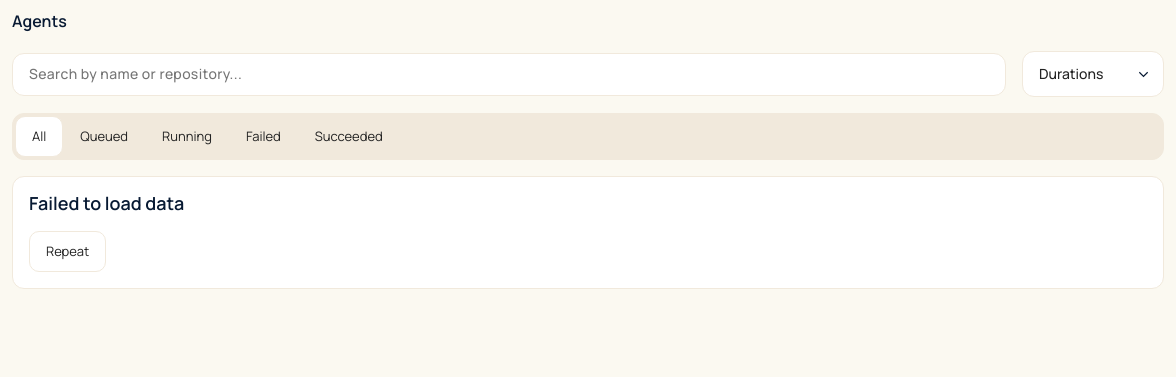
Test: Тестирование обработки ошибок в AgentsList › должен показывать блок ошибки и успешно перезагружать данные при клике на Повторить
This screenshot has width=1176, height=377.
Expected: the text "Failed to load data" is shown, [29, 193, 184, 215]
# Имитируем клик по кнопке "Повторить запрос ↻"
Click the button "Repeat" at (68, 251), box [29, 231, 106, 272]
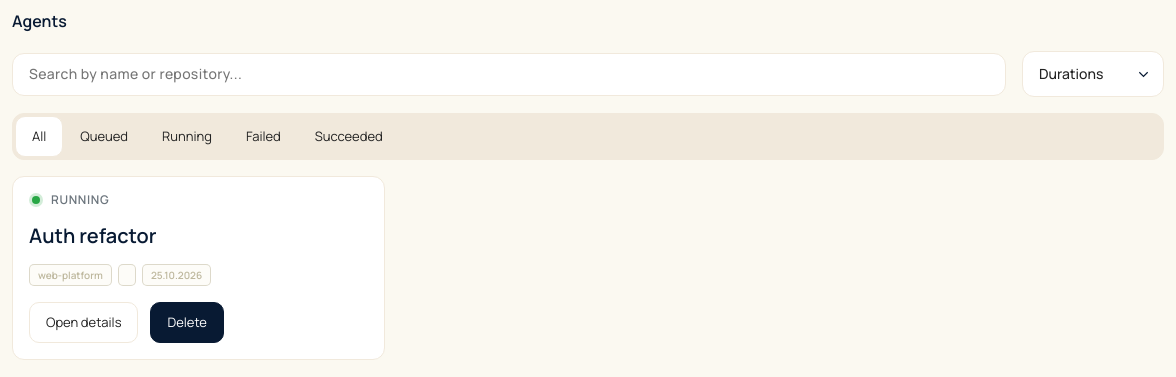
Now the text "Failed to load data" is gone
Now the text "Auth refactor" is shown, box [29, 222, 156, 249]
